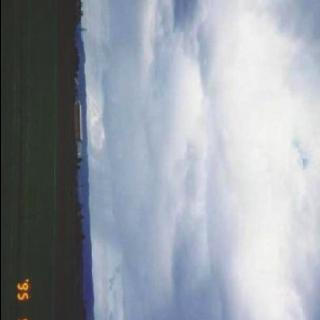Nimbostratus: (72, 0, 320, 320)
